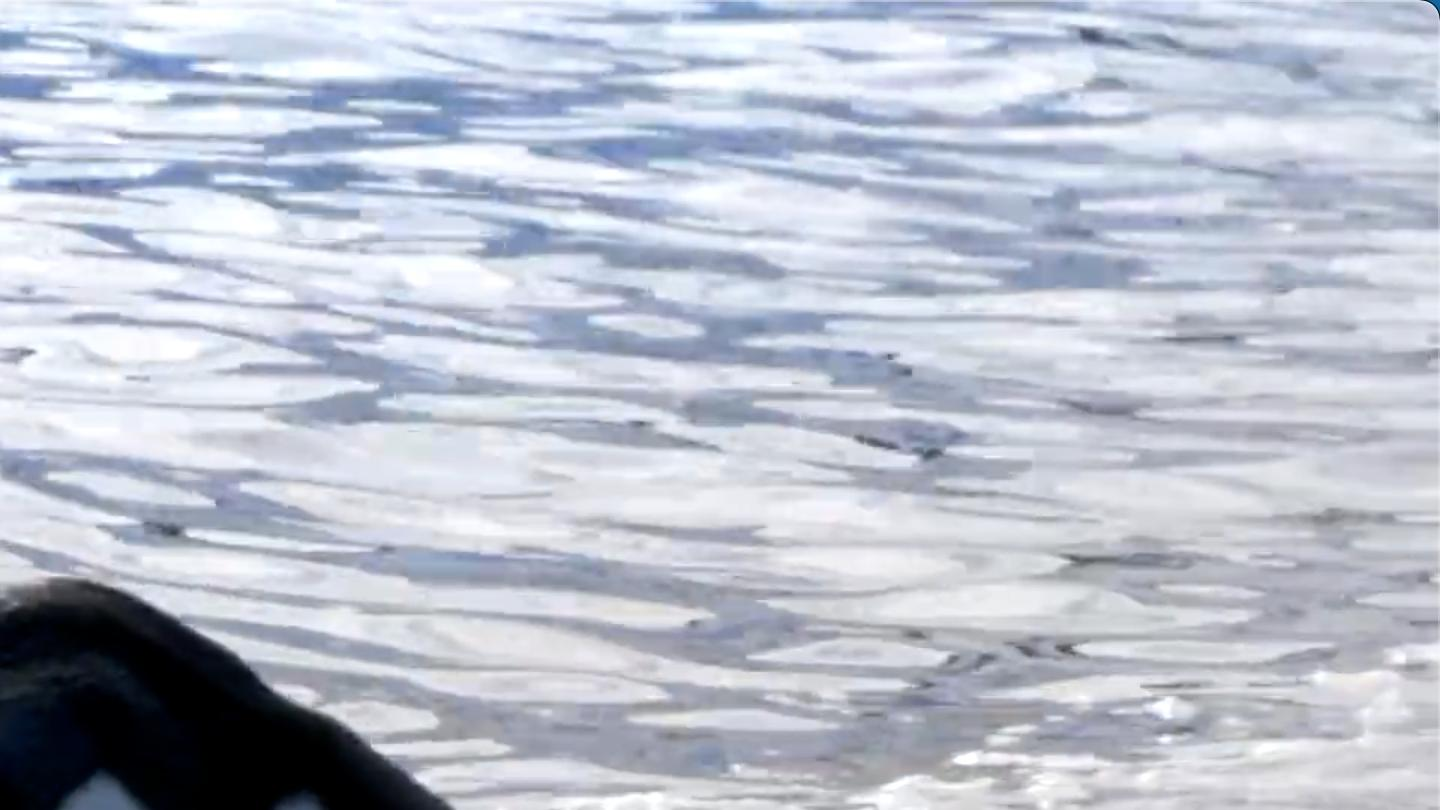Chinstrap Penguin: (0, 565, 656, 810)
